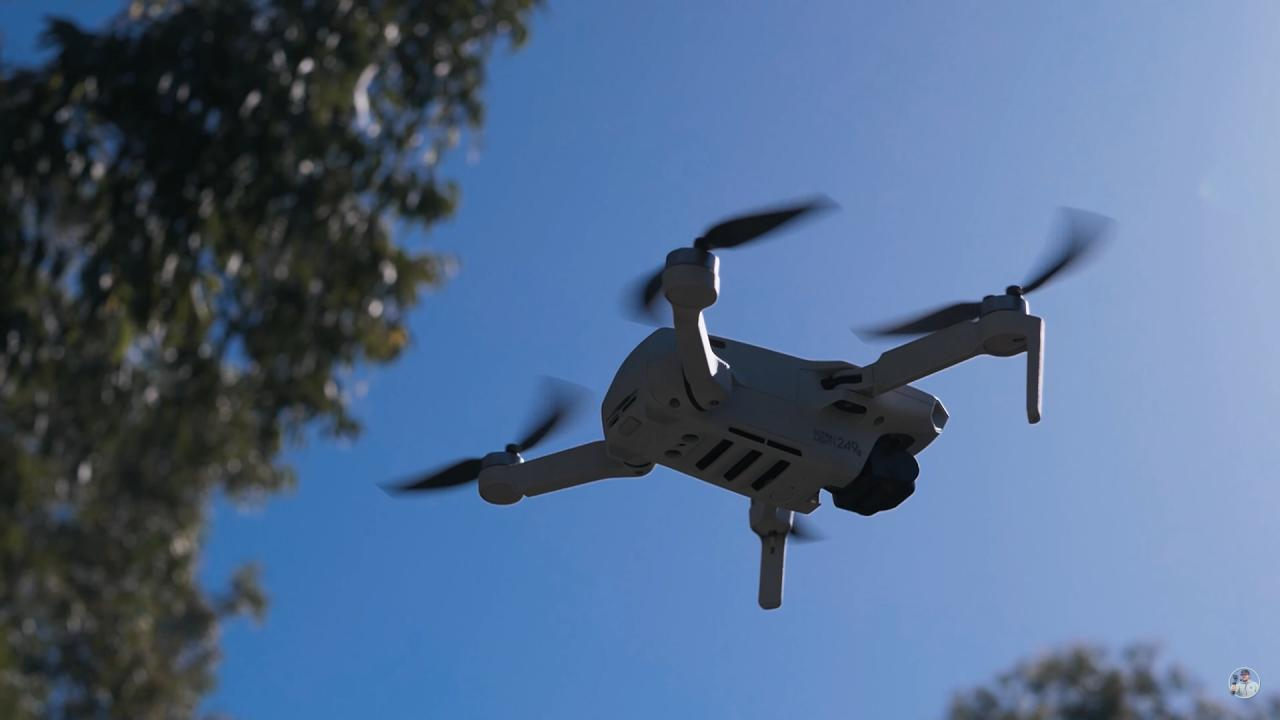Drone: (364, 178, 1135, 618)
